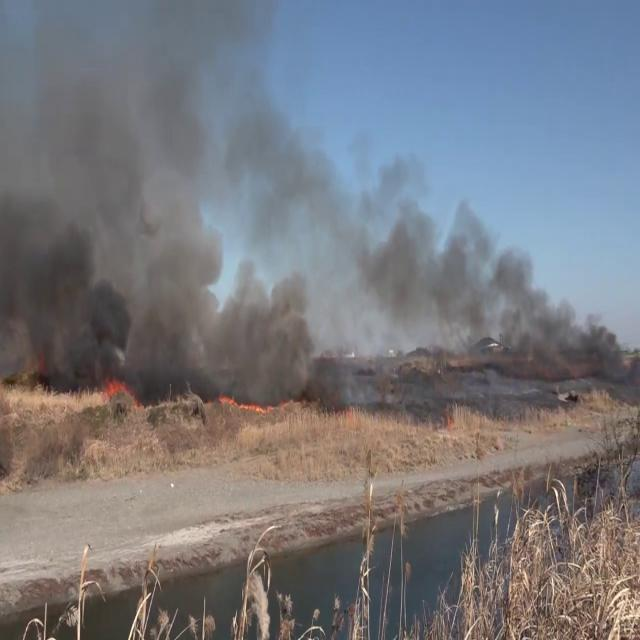Fire: (98, 370, 132, 410)
Smoke: (211, 55, 640, 395), (0, 1, 214, 403)
